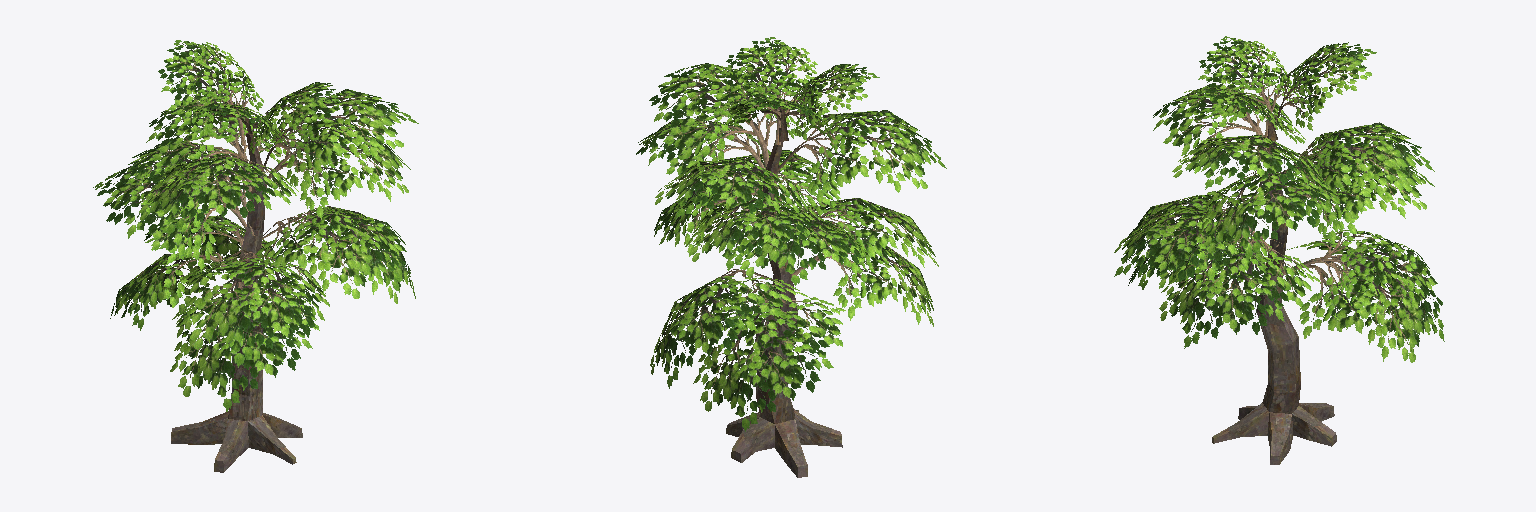
3 renders of one model, left to right at view 1: azimuth 30°, elevation 25°; view 2: azimuth 150°, elevation 25°; view 3: azimuth 270°, elevation 25°, orthographic.
Visible parts, largest first — view 1: Default; view 2: Default; view 3: Default.
Boxes of the visible parts, x1,y1,x2,y2 form: Default: [93, 40, 418, 472]; Default: [636, 37, 946, 477]; Default: [1114, 36, 1444, 464].
Size of the model in its own units: 4.94 by 6.3 by 5.25.
2 materials, 2 textured.